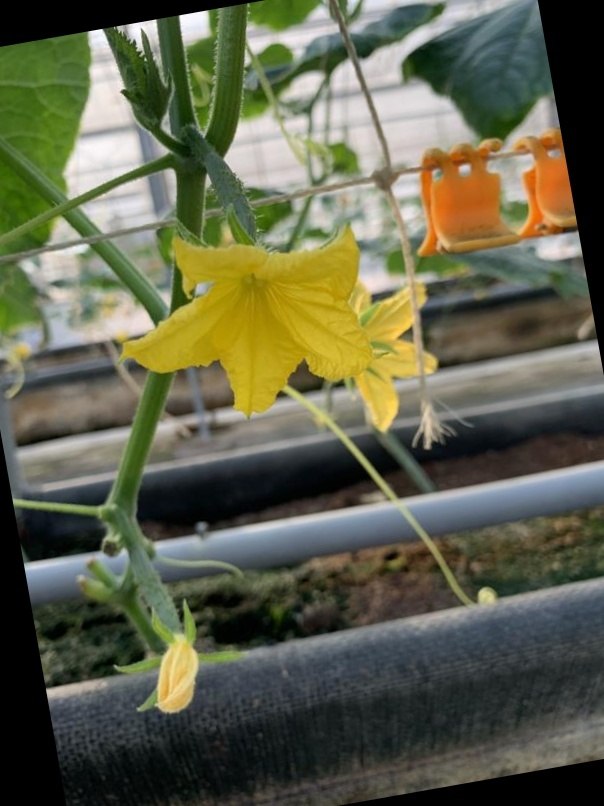flowering: (98, 146, 368, 415)
